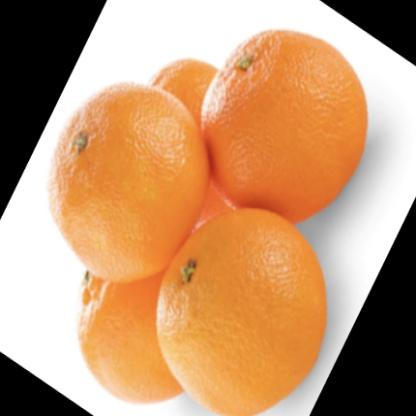fresh: (53, 29, 367, 416)
